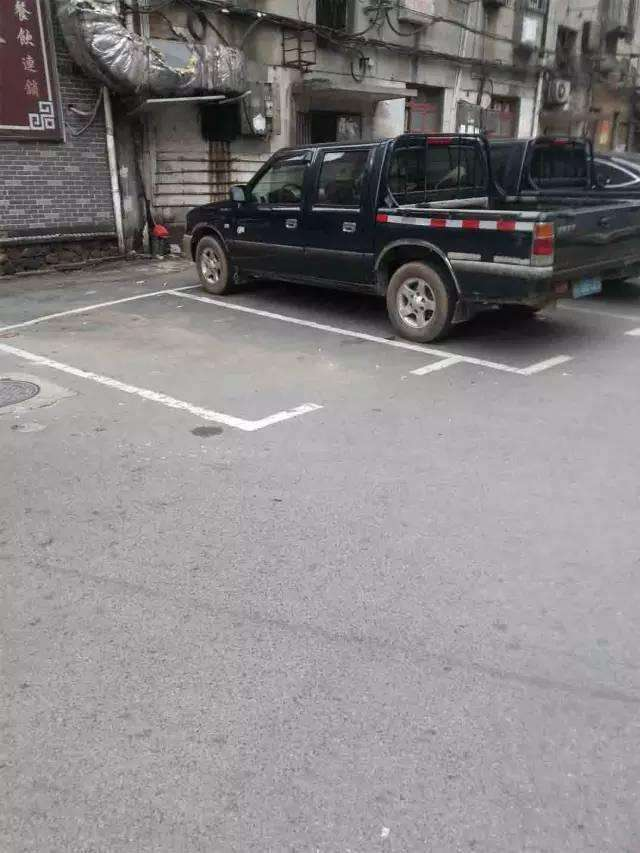slot_nocar: (4, 274, 474, 456)
